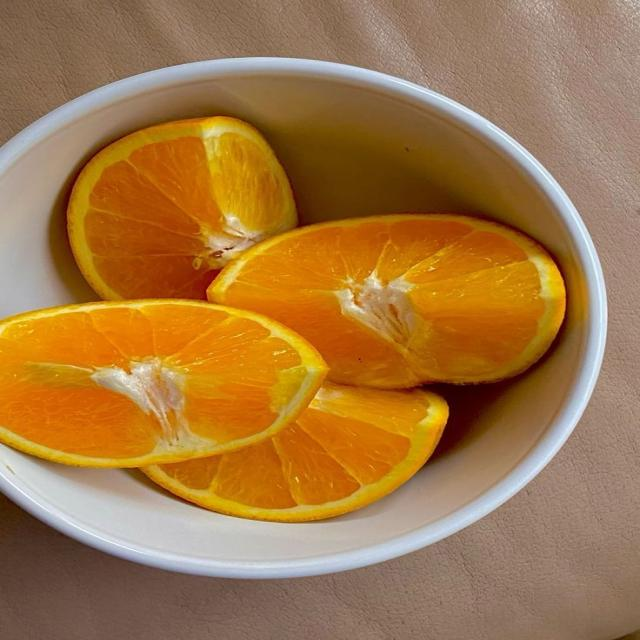orange: (208, 214, 565, 388), (0, 301, 326, 467), (143, 384, 447, 521), (68, 117, 296, 299)
